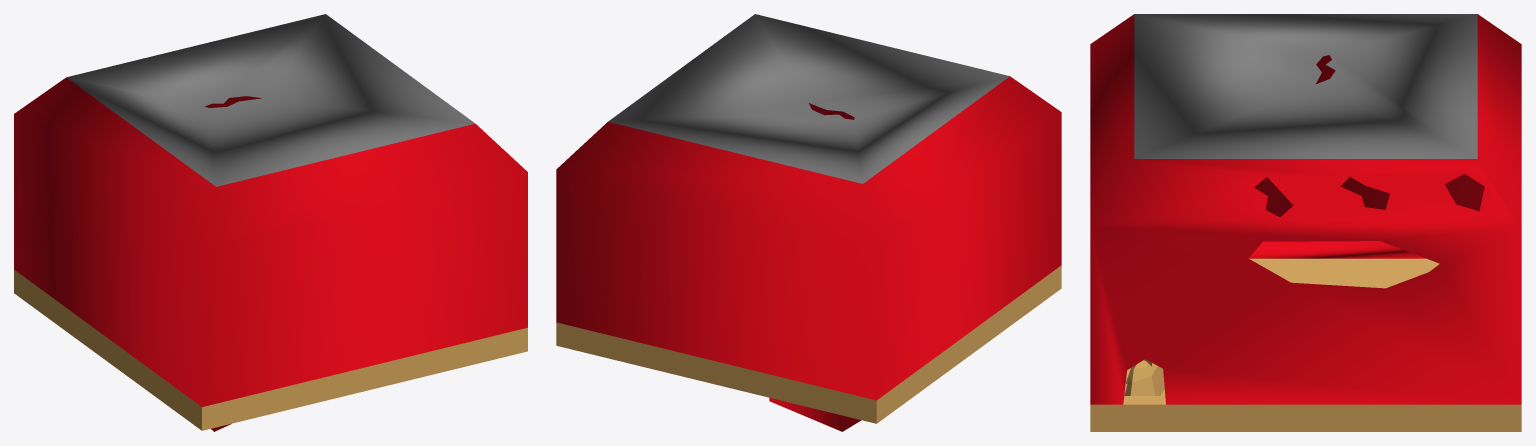
File: LevelMode2.glb
The picture shows the model from 3 angles, left to right: view 1: azimuth 30°, elevation 25°; view 2: azimuth 150°, elevation 25°; view 3: azimuth 270°, elevation 25°; orthographic projection. The views are drawn at different scales.
Visible parts, largest first — view 1: model; view 2: model; view 3: model.
Part boxes in pixels (x1=…): model: x1=14, y1=14, x2=527, y2=431; model: x1=556, y1=14, x2=1061, y2=431; model: x1=1090, y1=14, x2=1521, y2=431.
Size of the model in its own units: 10 by 8.57 by 10.
